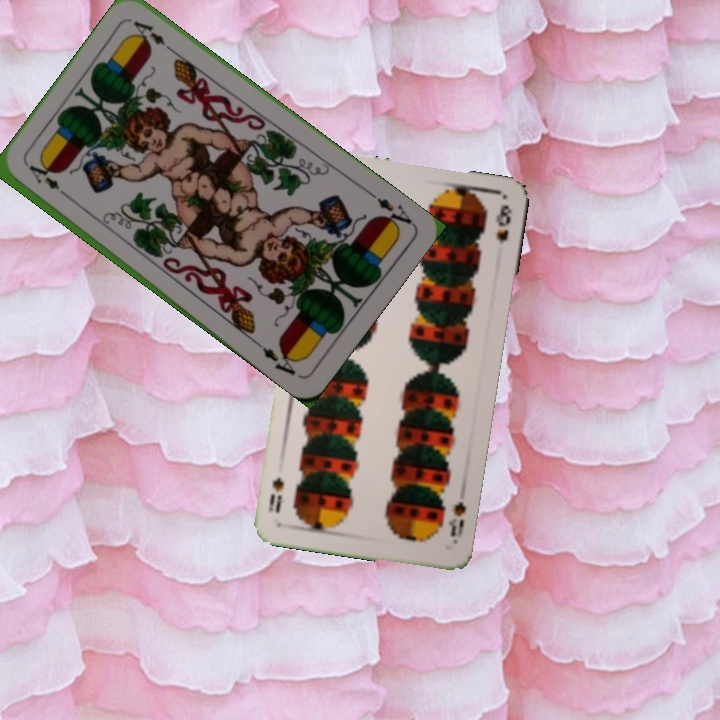EA: (364, 187, 416, 233), (25, 161, 73, 202)
S8: (444, 498, 468, 540)
